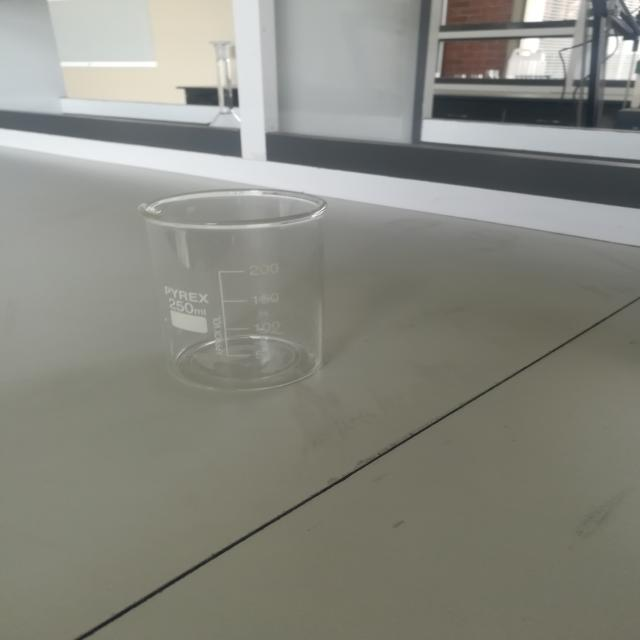Beaker: (121, 153, 397, 424)
